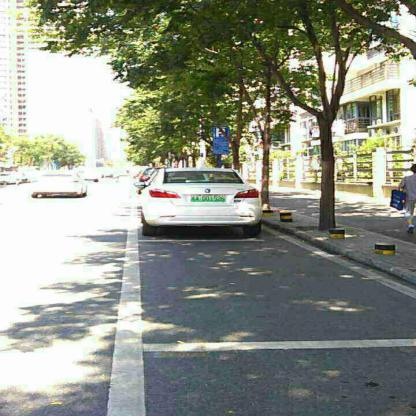lp: (189, 194, 227, 203)
